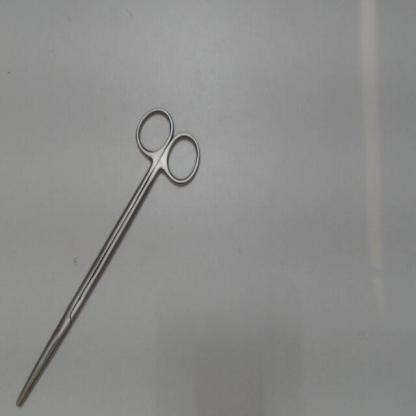9 Metzenbaum Scissors: (14, 102, 207, 413)
